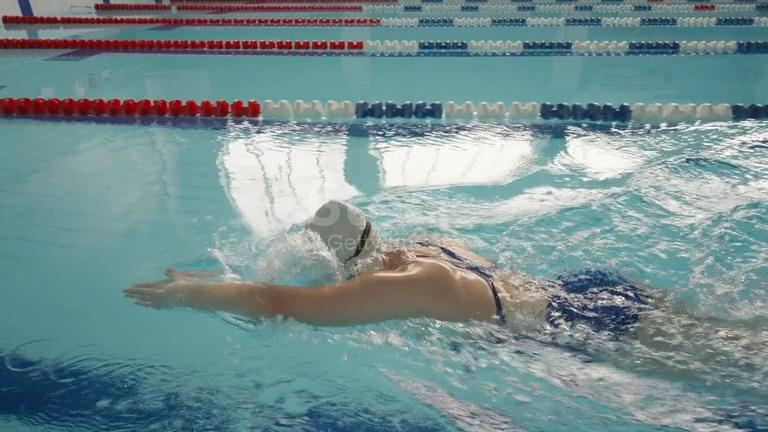Swimming: (49, 108, 726, 389)
